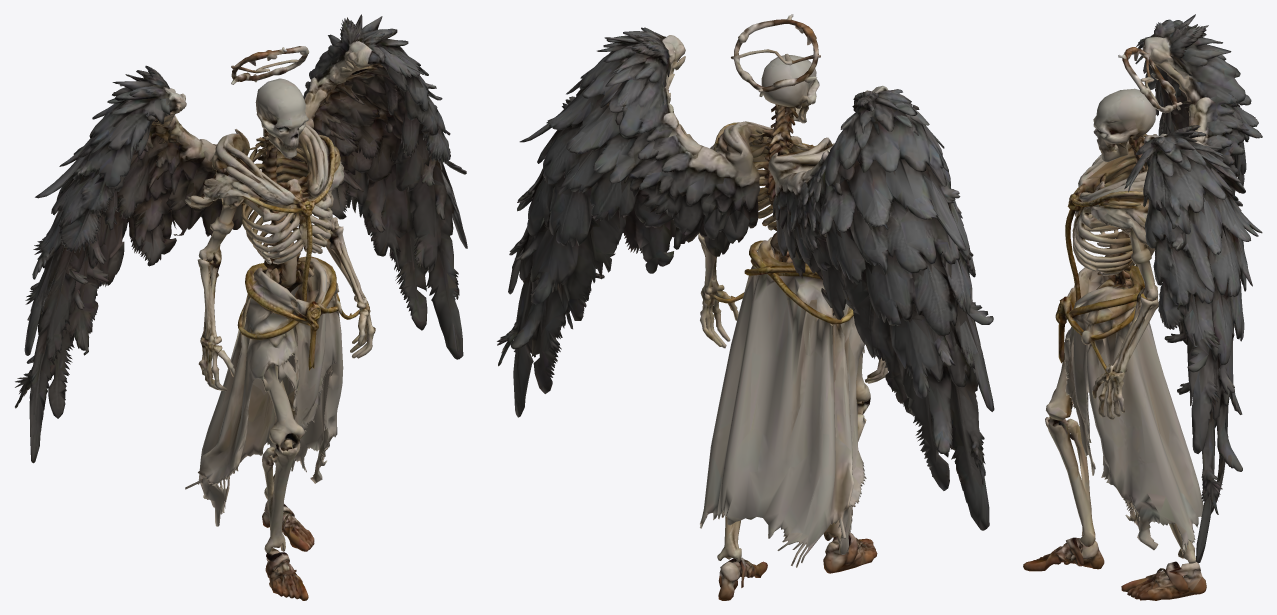
Rendered from preview.glb.
The picture shows the model from 3 angles, left to right: view 1: azimuth 30°, elevation 25°; view 2: azimuth 150°, elevation 25°; view 3: azimuth 270°, elevation 25°; orthographic projection. The views are drawn at different scales.
Visible parts, largest first — view 1: SkeletonAngel_Angel_LP.001_glb; view 2: SkeletonAngel_Angel_LP.001_glb; view 3: SkeletonAngel_Angel_LP.001_glb.
Boxes of the visible parts, <box> form: SkeletonAngel_Angel_LP.001_glb: <box>15,14,467,600</box>; SkeletonAngel_Angel_LP.001_glb: <box>497,14,994,600</box>; SkeletonAngel_Angel_LP.001_glb: <box>1023,14,1262,600</box>.
Size of the model in its own units: 0.9038 by 1 by 0.4109.
1 material, 1 textured.
